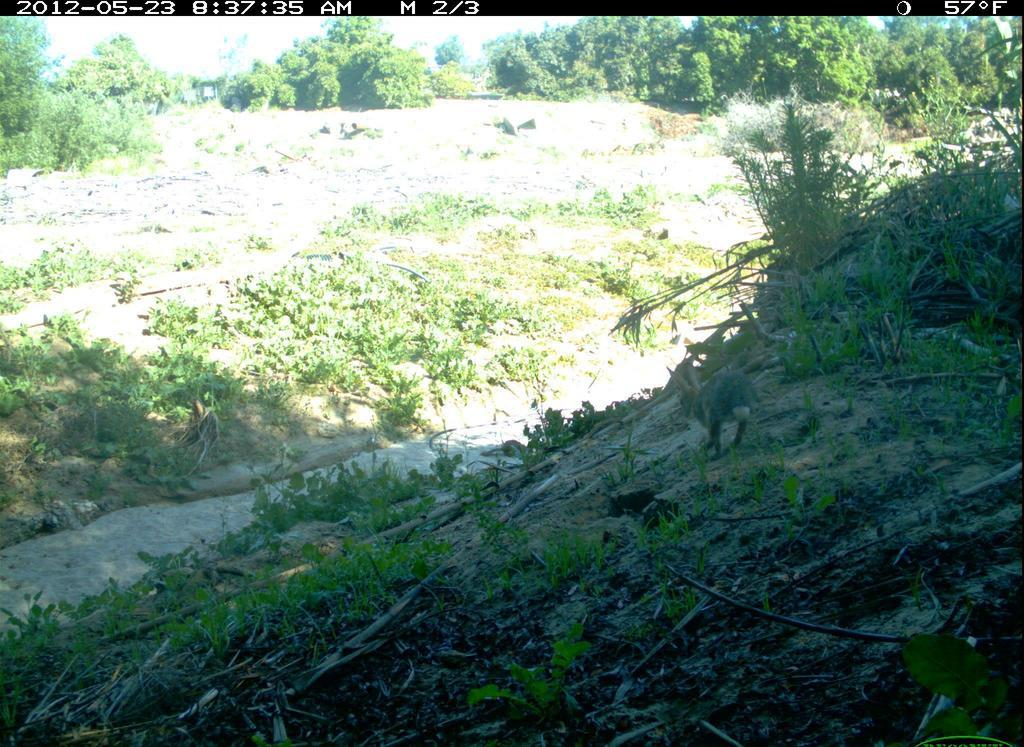rabbit: (665, 355, 770, 457)
